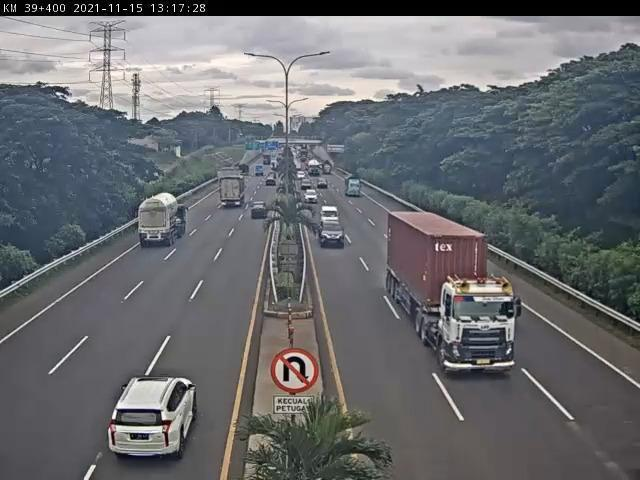car: (108, 376, 198, 464), (319, 219, 348, 252), (320, 204, 343, 232), (250, 200, 269, 222), (304, 188, 320, 207)
truck: (389, 212, 518, 375), (137, 191, 190, 251), (219, 173, 248, 209)
